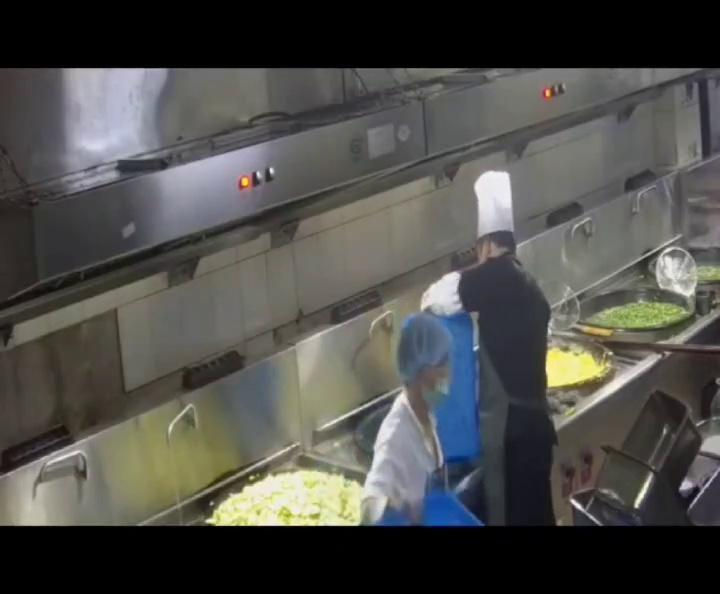gloves: (396, 313, 454, 384)
mask: (420, 374, 457, 407)
